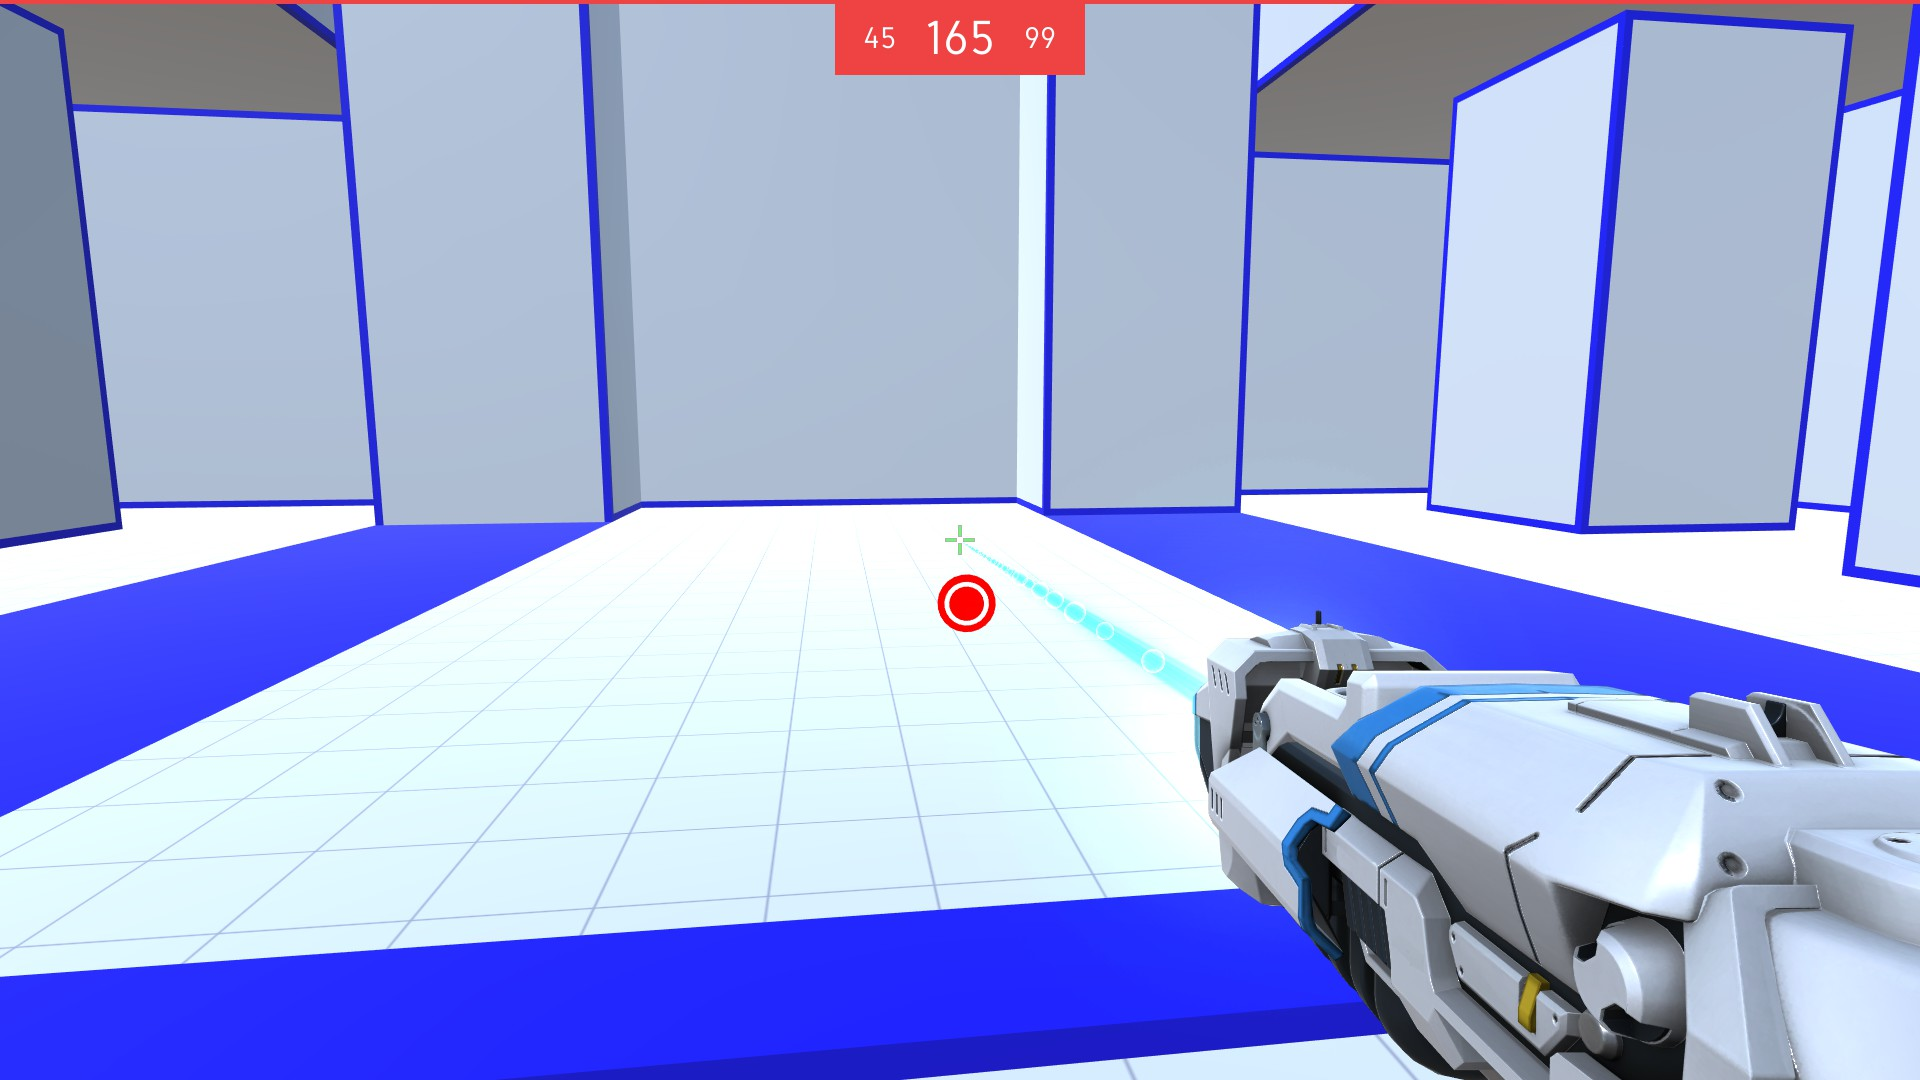target: (936, 571, 998, 632)
